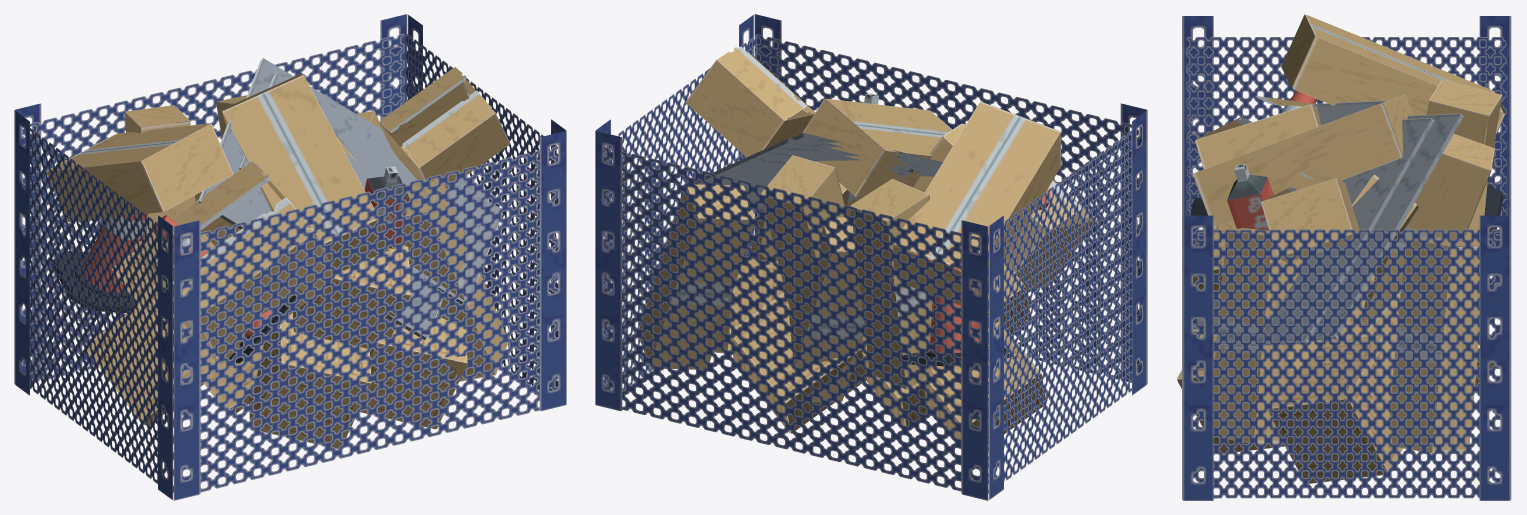
Rendered from bluebox.fbx.
The picture shows the model from 3 angles, left to right: view 1: azimuth 30°, elevation 25°; view 2: azimuth 150°, elevation 25°; view 3: azimuth 270°, elevation 25°; orthographic projection. The views are drawn at different scales.
Visible parts, largest first — view 1: 平面.067; view 2: 平面.067; view 3: 平面.067.
Boxes of the visible parts, bbox=[...] form: 平面.067: bbox=[14, 14, 566, 500]; 平面.067: bbox=[595, 14, 1147, 500]; 平面.067: bbox=[1177, 14, 1511, 500].
Bounding box in the file's own units: 332 × 261 × 236.
